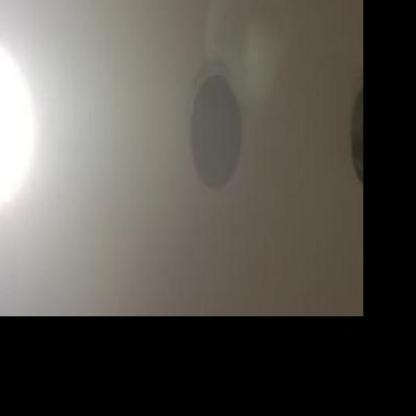light_off: (328, 52, 404, 209)
